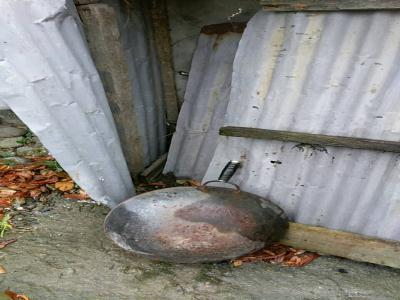bowl: (98, 177, 297, 272)
